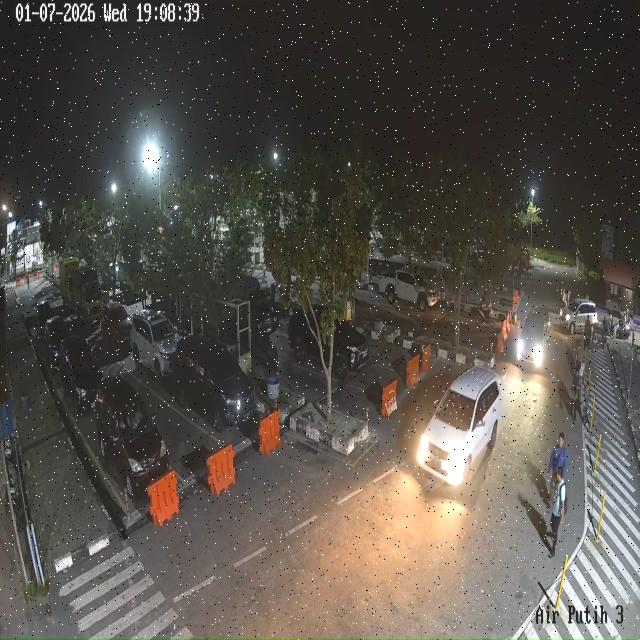Golongan IVA: (417, 367, 503, 485), (96, 376, 169, 498), (172, 336, 256, 432), (288, 306, 369, 380), (129, 309, 179, 383), (60, 335, 103, 416), (516, 306, 551, 368), (560, 298, 598, 334), (43, 316, 67, 371), (101, 301, 131, 344), (36, 300, 52, 339)
Golongan IVB: (378, 270, 437, 312)
Golongan VB: (59, 258, 102, 321)
